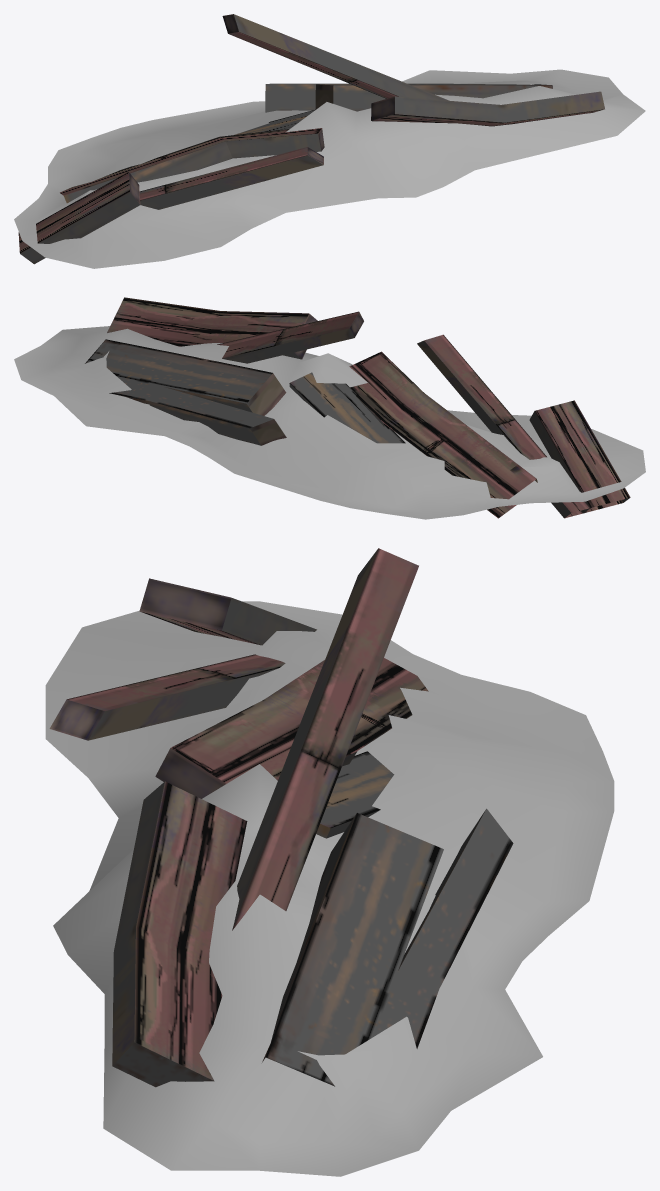
Rendered from RubblePile_Edge.fbx.
The picture shows the model from 3 angles, top to bottom: view 1: azimuth 30°, elevation 25°; view 2: azimuth 150°, elevation 25°; view 3: azimuth 270°, elevation 25°; orthographic projection. The views are drawn at different scales.
Visible parts, largest first — view 1: RubblePile_Edge, RChunk_02, RChunk_03, RChunk_04, RChunk_05, RChunk_01; view 2: RubblePile_Edge, RChunk_05, RChunk_04, RChunk_02, RChunk_03, RChunk_01; view 3: RubblePile_Edge, RChunk_02, RChunk_05, RChunk_03, RChunk_04, RChunk_01.
Boxes of the visible parts, x1,y1,x2,y2 form: RubblePile_Edge: (14,69,645,268); RChunk_02: (222,14,604,126); RChunk_03: (18,147,323,264); RChunk_04: (60,128,324,203); RChunk_05: (265,83,552,112); RChunk_01: (233,109,315,135); RubblePile_Edge: (14,326,645,519); RChunk_05: (85,339,286,445); RChunk_04: (349,351,537,518); RChunk_02: (107,297,363,363); RChunk_03: (417,334,630,518); RChunk_01: (289,372,405,443); RubblePile_Edge: (45,601,614,1176); RChunk_02: (112,548,418,1087); RChunk_05: (262,808,513,1086); RChunk_03: (49,578,316,740); RChunk_04: (155,658,428,798); RChunk_01: (316,751,394,838).
Size of the model in its own units: 19 by 5.12 by 7.87.
